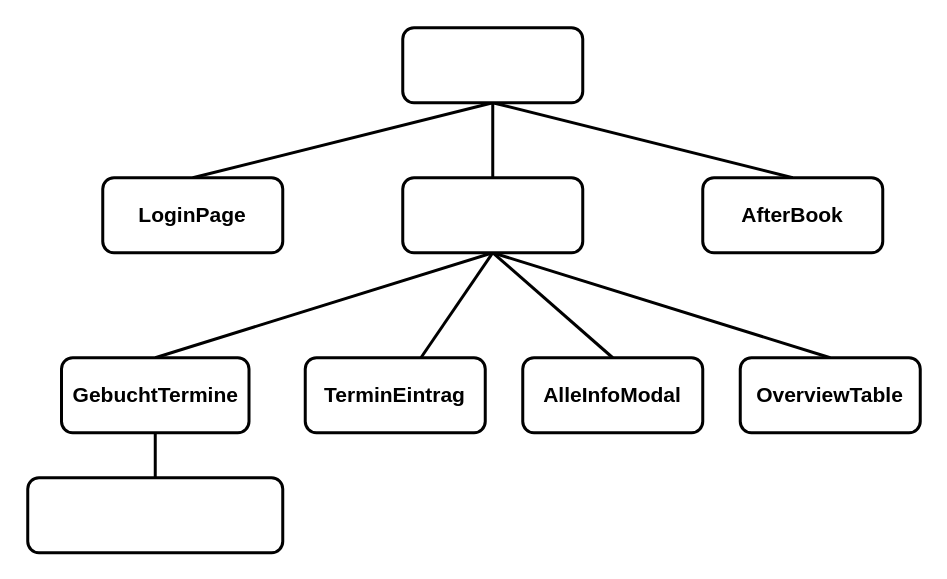
This 947x579 diagram has some shape labels left out. The centre of each missing label's shape, as x and y in pixels:
"App" goes at [492,215].
"Main" goes at [492,65].
"TerminChangeForm" goes at [155,515].
